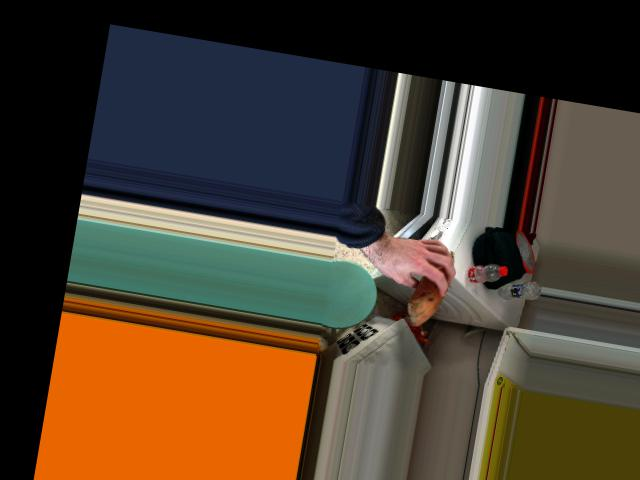sweet_potato: (407, 241, 457, 328)
